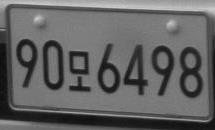0: (42, 39, 63, 91)
4: (122, 43, 148, 95)
6: (96, 43, 121, 94)
8: (178, 45, 203, 98)
9: (150, 44, 175, 96), (15, 37, 38, 88)
모: (67, 50, 92, 92)
